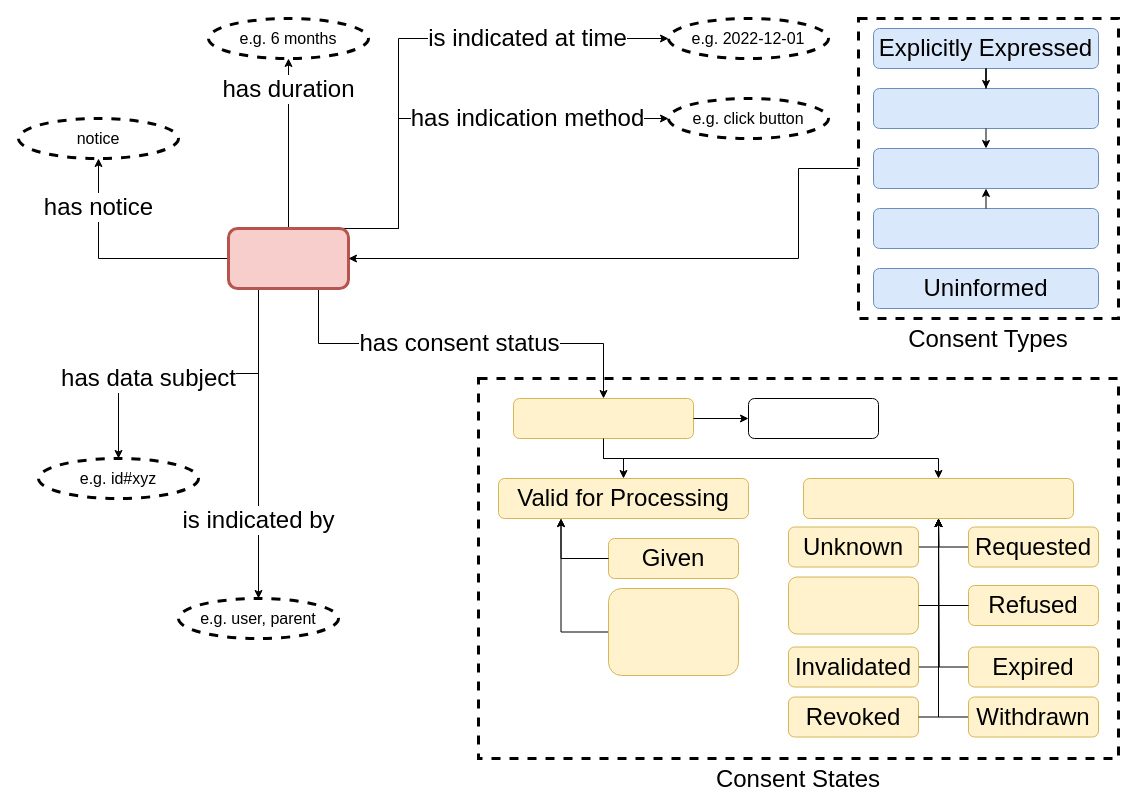
Some shapes in this 1137 by 812 pixel diagram are drawn without their labels. The shapes that lost their labels are listed below. From the top down, each one's box as (x1, y1, x2, y2) in pixels, then its label:
(872, 88, 1098, 128): Expressed
(872, 148, 1098, 188): Informed
(872, 208, 1098, 248): Implied
(226, 226, 350, 290): Consent
(512, 398, 694, 438): Consent Status
(748, 398, 878, 438): Status
(802, 478, 1074, 518): Invalid for Processing
(788, 576, 918, 634): Request Deferred
(608, 588, 738, 676): Renewed Consent Given
